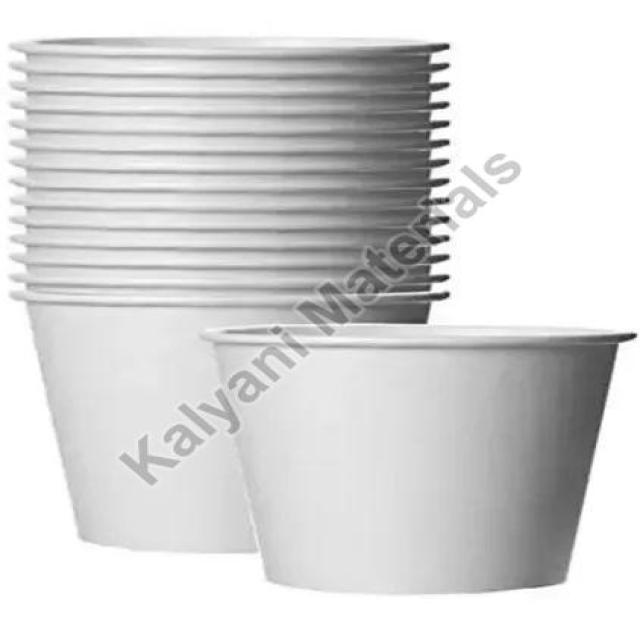PaperCardboard: (23, 39, 427, 549), (212, 325, 613, 597)
